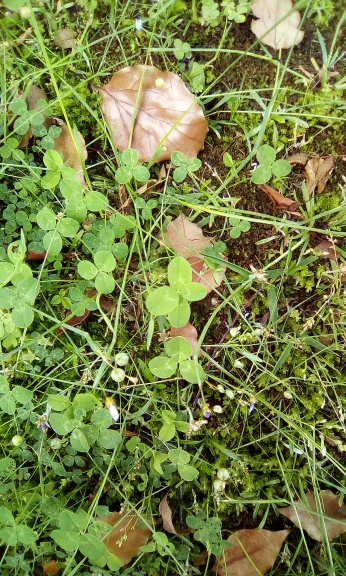4leaf: (145, 256, 207, 330)
